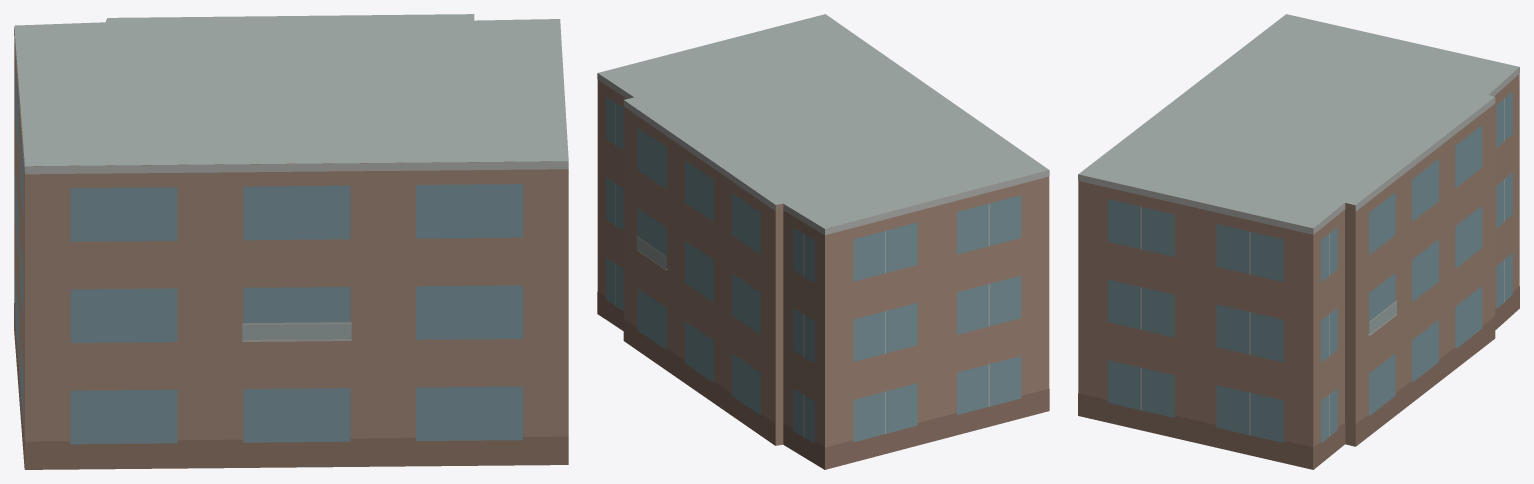
File: survey-upis-32842792.glb
3 renders of one model, left to right at view 1: azimuth 30°, elevation 25°; view 2: azimuth 150°, elevation 25°; view 3: azimuth 270°, elevation 25°, orthographic. The views are drawn at different scales.
Visible parts, largest first — view 1: survey-upis-32842792.tmp; view 2: survey-upis-32842792.tmp; view 3: survey-upis-32842792.tmp.
Part boxes in pixels (x1,y1,x2,y2): survey-upis-32842792.tmp: (14,14,568,469); survey-upis-32842792.tmp: (597,14,1049,469); survey-upis-32842792.tmp: (1078,14,1519,469).
Bounding box in the file's own units: 17.43 × 9.15 × 15.18.
